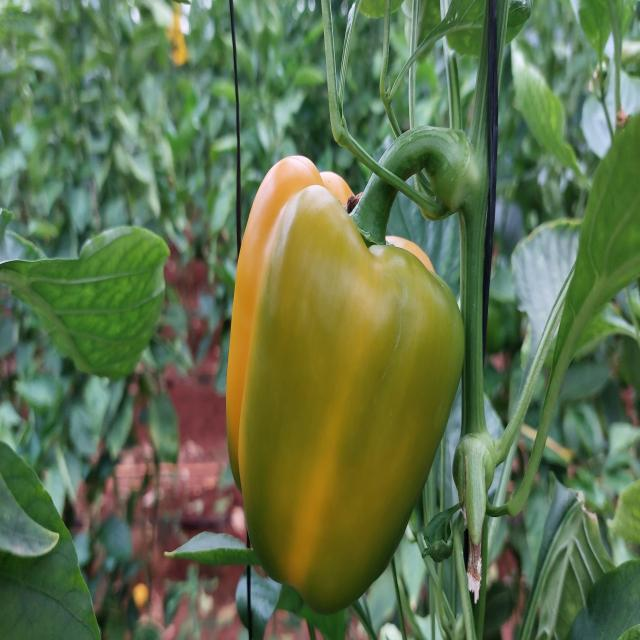GreenishYellow--Can-be-Harvested: (214, 128, 482, 614)
